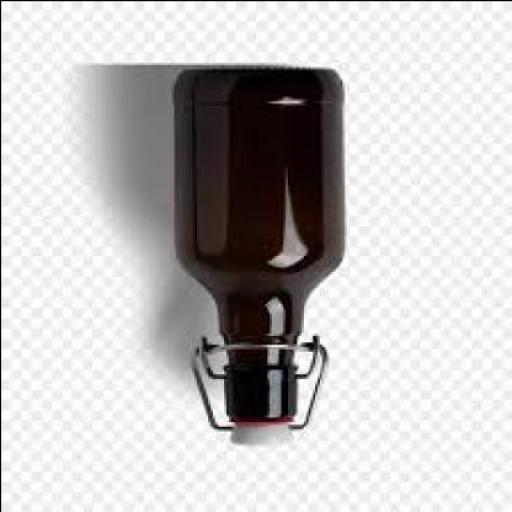glass: (175, 71, 346, 419)
plastic: (234, 423, 296, 448)
